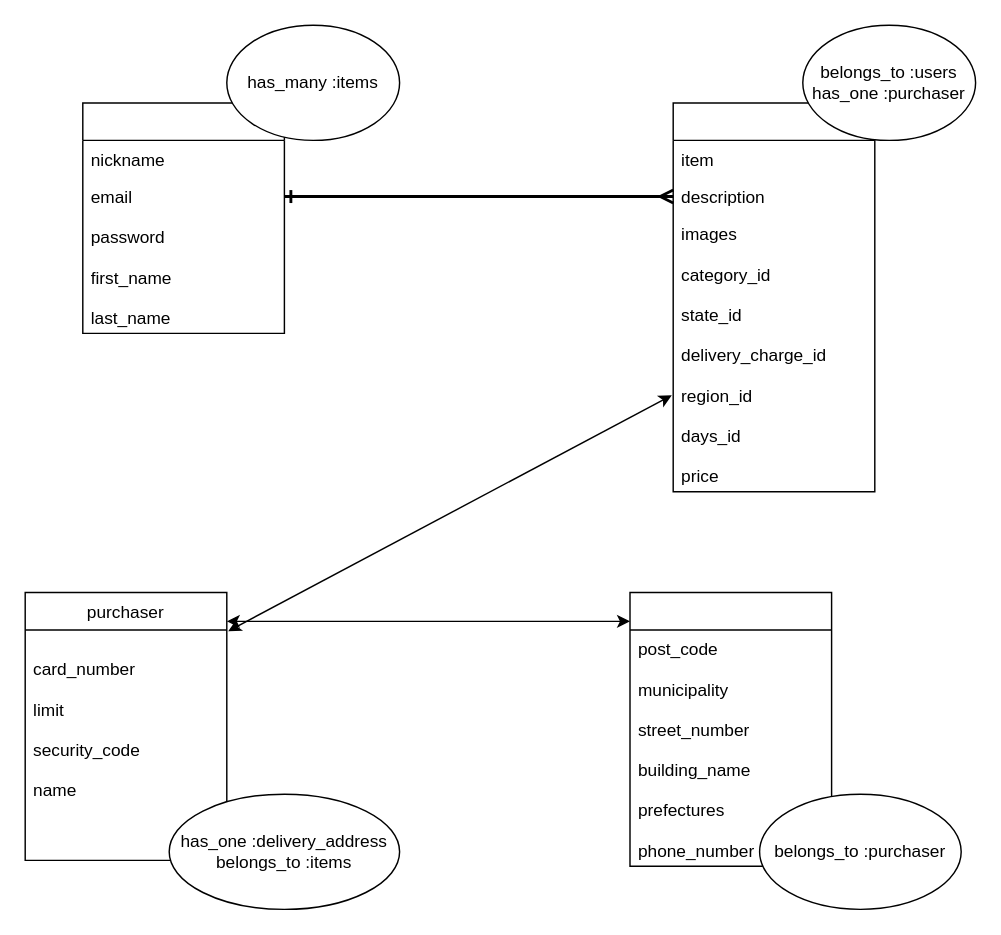
Some shapes in this 1001 by 935 pixel diagram are drawn without their labels. The box of each missing label's shape, as (x1, y1, x2, y2) in pixels:
delivery_address: (629, 591, 832, 866)
items: (672, 102, 875, 492)
users: (81, 102, 284, 333)
